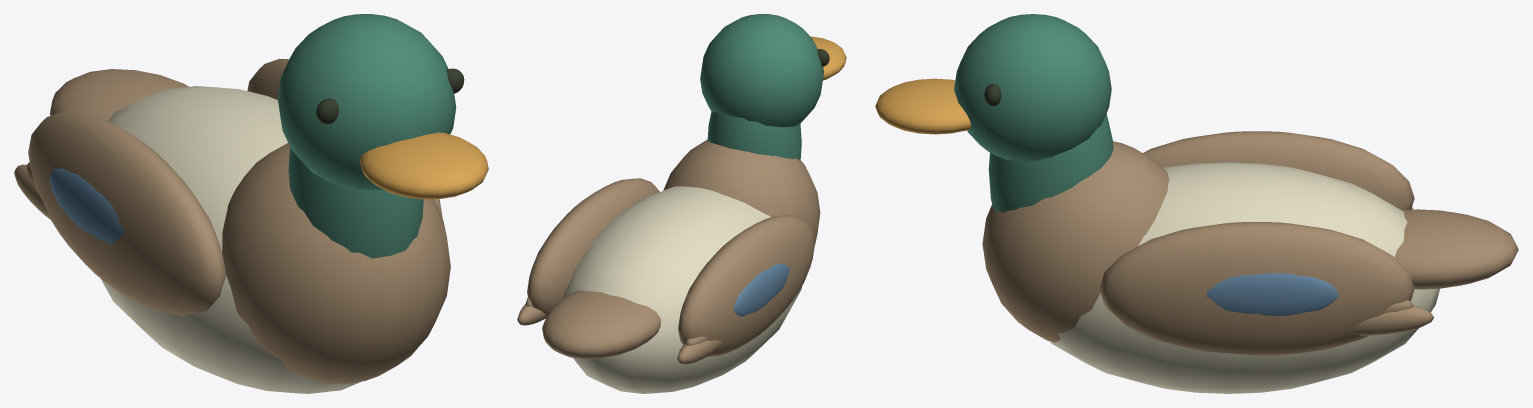
Rendered from mallard.glb.
3 renders of one model, left to right at view 1: azimuth 30°, elevation 25°; view 2: azimuth 150°, elevation 25°; view 3: azimuth 270°, elevation 25°, orthographic. The views are drawn at different scales.
Parts seen in each view (by area): view 1: DuckBreast, WingL, DuckBody, DuckHead, DuckNeck, Bill, Tail, WingPatch, WingR, Feather.003, DuckEye; view 2: DuckBody, DuckHead, WingL, DuckBreast, Tail, WingR, DuckNeck, WingPatch, Bill, Feather.003, Feather.007; view 3: DuckBody, WingR, DuckBreast, DuckHead, WingL, Tail, DuckNeck, WingPatch.001, Bill, Feather.007.
Part boxes in pixels (box(x1,y1,x2,y2)): DuckBreast: box(222, 143, 450, 383); WingL: box(28, 112, 225, 315); DuckBody: box(100, 86, 360, 393); DuckHead: box(277, 14, 456, 190); DuckNeck: box(288, 148, 423, 258); Bill: box(359, 132, 488, 199); Tail: box(50, 69, 188, 120); WingPatch: box(49, 168, 123, 243); WingR: box(247, 58, 442, 218); Feather.003: box(14, 164, 50, 219); DuckEye: box(316, 98, 339, 124); DuckBody: box(563, 186, 801, 393); DuckHead: box(700, 14, 823, 127); WingL: box(678, 215, 814, 356); DuckBreast: box(663, 139, 820, 244); Tail: box(542, 290, 660, 359); WingR: box(527, 178, 659, 316); DuckNeck: box(707, 111, 801, 160); WingPatch: box(733, 263, 789, 316); Bill: box(811, 36, 846, 80); Feather.003: box(677, 340, 722, 364); Feather.007: box(517, 304, 546, 325); DuckBody: box(1049, 162, 1439, 393); WingR: box(1099, 222, 1414, 355); DuckBreast: box(982, 141, 1169, 342); DuckHead: box(954, 14, 1111, 161); WingL: box(1143, 131, 1414, 209); Tail: box(1394, 209, 1518, 289); DuckNeck: box(988, 114, 1113, 212); WingPatch.001: box(1206, 273, 1338, 315); Bill: box(875, 78, 971, 134); Feather.007: box(1354, 306, 1433, 335).
Bounding box in the file's own units: 0.456 × 0.63 × 1.02.
